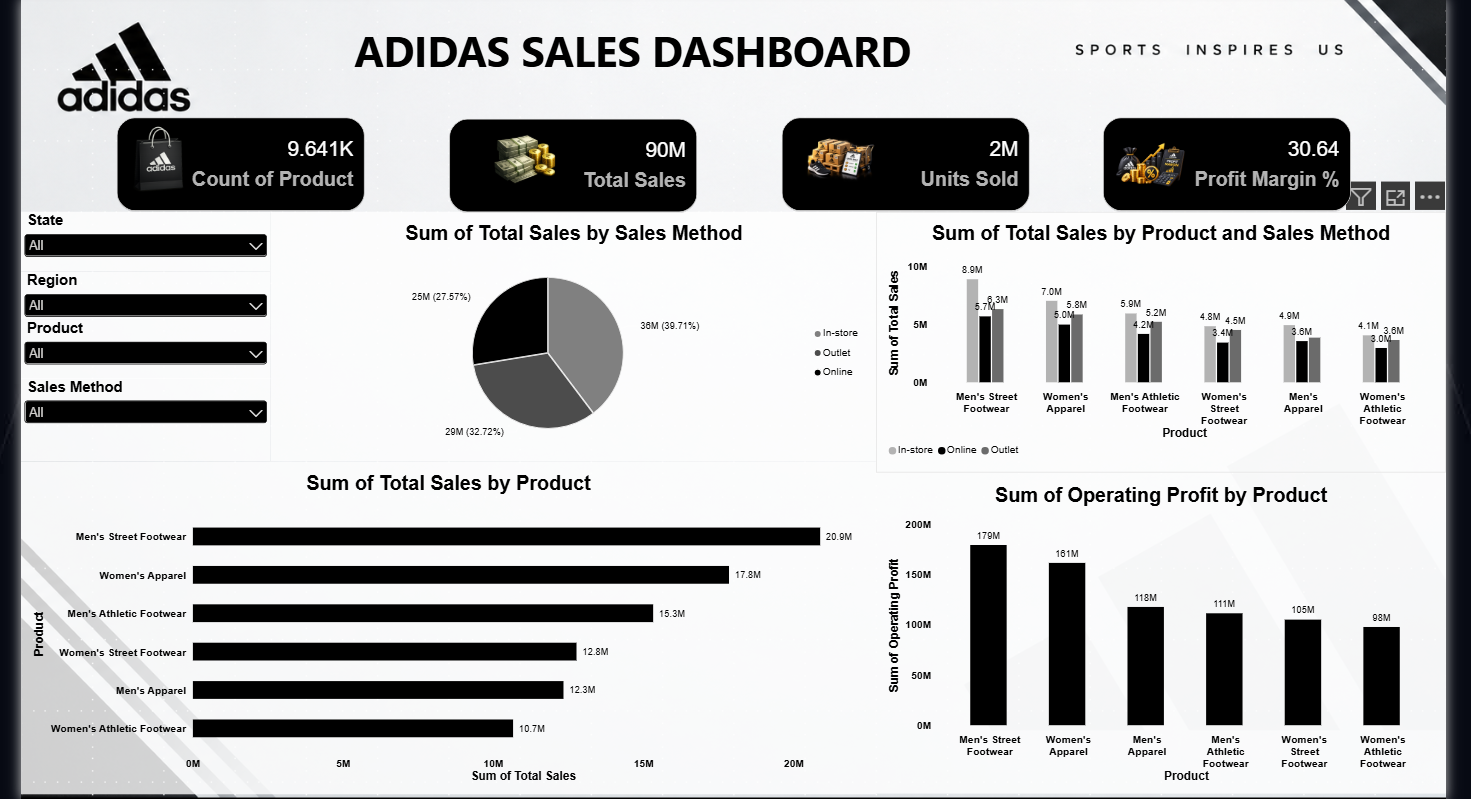

This screenshot's page, from the dashboard's own definition file:
{"tool":"powerbi","page":{"name":"Page 1","canvas":[1920,1080],"ordinal":0},"visuals":[{"type":"columnChart","fields":{"Category":["Adidas Dataset.Product"],"Y":["Sum(Adidas Dataset.Operating Profit)"]},"box":[1152,640,768,432],"z":0},{"type":"textbox","box":[224,32,1200,80],"z":1000},{"type":"cardVisual","title":"TOTAL SALES","fields":{"Data":["Sum(Adidas Dataset.Total Sales)"]},"box":[576,160,336,128],"z":1000,"group":"g2"},{"type":"cardVisual","title":"TOTAL SALES","fields":{"Data":["Sum(Adidas Dataset.Units Sold)"]},"box":[1024,160,336,128],"z":2000,"group":"g3"},{"type":"clusteredBarChart","fields":{"Category":["Adidas Dataset.Product"],"Y":["Sum(Adidas Dataset.Total Sales)"]},"box":[0,624,1152,448],"z":2000},{"type":"slicer","fields":{"Values":["Adidas Dataset.State"]},"box":[0,288,336,80],"z":3000},{"type":"slicer","fields":{"Values":["Adidas Dataset.Product"]},"box":[0,432,336,80],"z":4000},{"type":"slicer","fields":{"Values":["Adidas Dataset.Sales Method"]},"box":[0,512,336,112],"z":5000},{"type":"pieChart","fields":{"Category":["Adidas Dataset.Sales Method"],"Y":["Sum(Adidas Dataset.Total Sales)"]},"box":[336,288,816,336],"z":6000},{"type":"clusteredColumnChart","fields":{"Category":["Adidas Dataset.Product"],"Y":["Sum(Adidas Dataset.Total Sales)"],"Series":["Adidas Dataset.Sales Method"]},"box":[1152,288,768,352],"z":7000},{"type":"slicer","fields":{"Values":["Adidas Dataset.Region"]},"box":[0,368,336,64],"z":8000},{"type":"group","id":"g1","title":"Group 1","box":[64,128,400,192],"z":9000},{"type":"group","id":"g2","title":"Group 2","box":[512,144,400,144],"z":10000},{"type":"cardVisual","title":"TOTAL SALES","fields":{"Data":["Adidas Dataset.Profit Margin %"]},"box":[1456,160,336,128],"z":10000,"group":"g4"},{"type":"cardVisual","title":"TOTAL SALES","fields":{"Data":["CountNonNull(Adidas Dataset.Product)"]},"box":[128,160,336,128],"z":11000,"group":"g1"},{"type":"group","id":"g3","title":"Group 3","box":[1024,160,336,128],"z":11000},{"type":"group","id":"g4","title":"Group 4","box":[1456,160,336,128],"z":12000},{"type":"image","box":[64,128,240,192],"z":13000,"group":"g1"},{"type":"image","box":[512,144,336,144],"z":13002,"group":"g2"},{"type":"image","box":[1056,160,96,112],"z":13004,"group":"g3"},{"type":"image","box":[1472,160,96,128],"z":13006,"group":"g4"}]}

Visuals, with their boxes on the page's 1920x1080 design canvas (x1, y1, x2, y2). These are canvas units, not pixel positions in the 1471x799 screenshot, which may show the page scaled, cropped or inside an application window:
columnChart - Adidas Dataset.Product x Sum(Adidas Dataset.Operating Profit): x1=1152 y1=640 x2=1920 y2=1072
textbox: x1=224 y1=32 x2=1424 y2=112
"TOTAL SALES" cardVisual: x1=576 y1=160 x2=912 y2=288
"TOTAL SALES" cardVisual: x1=1024 y1=160 x2=1360 y2=288
clusteredBarChart - Adidas Dataset.Product x Sum(Adidas Dataset.Total Sales): x1=0 y1=624 x2=1152 y2=1072
slicer - Adidas Dataset.State: x1=0 y1=288 x2=336 y2=368
slicer - Adidas Dataset.Product: x1=0 y1=432 x2=336 y2=512
slicer - Adidas Dataset.Sales Method: x1=0 y1=512 x2=336 y2=624
pieChart - Adidas Dataset.Sales Method x Sum(Adidas Dataset.Total Sales): x1=336 y1=288 x2=1152 y2=624
clusteredColumnChart - Adidas Dataset.Product x Sum(Adidas Dataset.Total Sales): x1=1152 y1=288 x2=1920 y2=640
slicer - Adidas Dataset.Region: x1=0 y1=368 x2=336 y2=432
"Group 1" group: x1=64 y1=128 x2=464 y2=320
"Group 2" group: x1=512 y1=144 x2=912 y2=288
"TOTAL SALES" cardVisual: x1=1456 y1=160 x2=1792 y2=288
"TOTAL SALES" cardVisual: x1=128 y1=160 x2=464 y2=288
"Group 3" group: x1=1024 y1=160 x2=1360 y2=288
"Group 4" group: x1=1456 y1=160 x2=1792 y2=288
image: x1=64 y1=128 x2=304 y2=320
image: x1=512 y1=144 x2=848 y2=288
image: x1=1056 y1=160 x2=1152 y2=272
image: x1=1472 y1=160 x2=1568 y2=288
